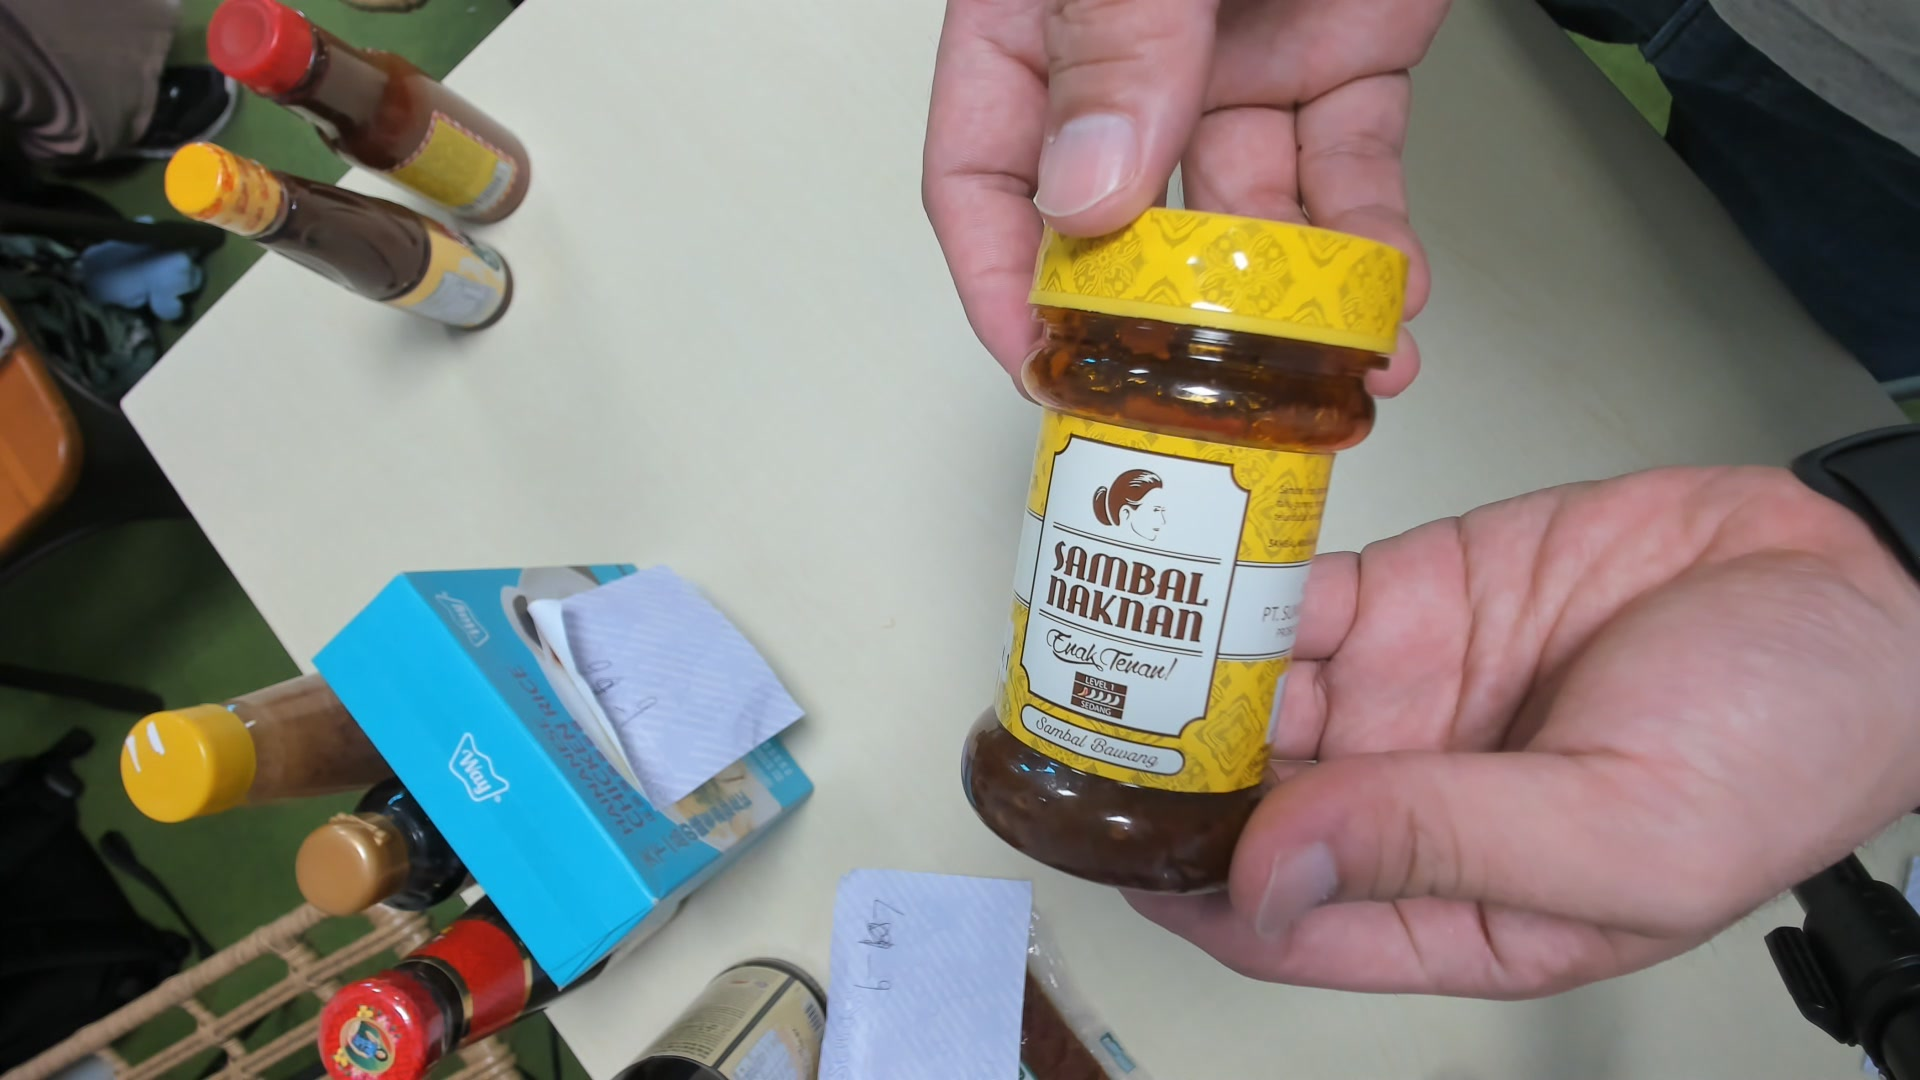KetchupChillSauce_100-199g_Halal_NonHealthy: (960, 203, 1404, 894)
